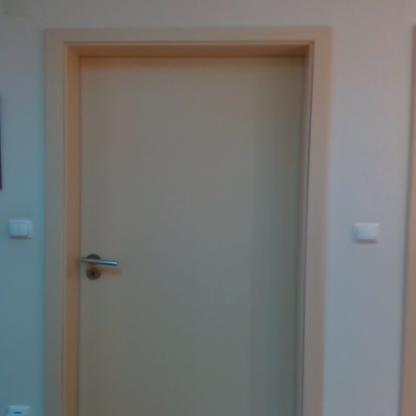door: (79, 58, 299, 416)
lever: (81, 254, 120, 270)
